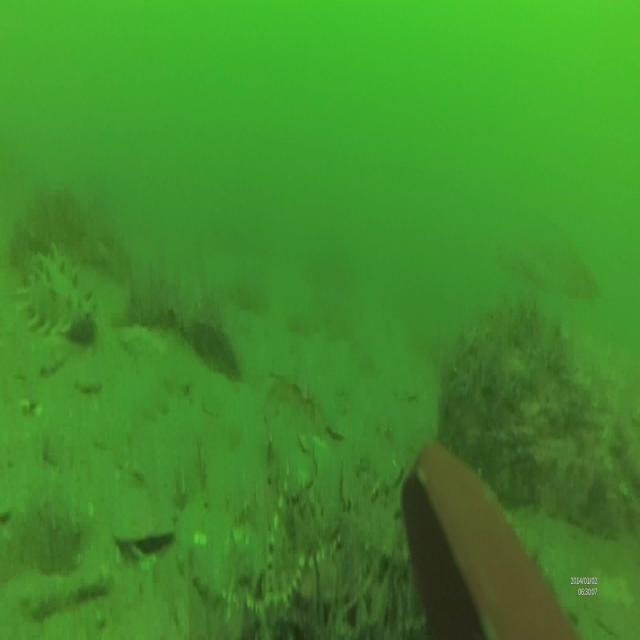holothurian: (22, 245, 96, 343)
scallop: (113, 506, 173, 558)
